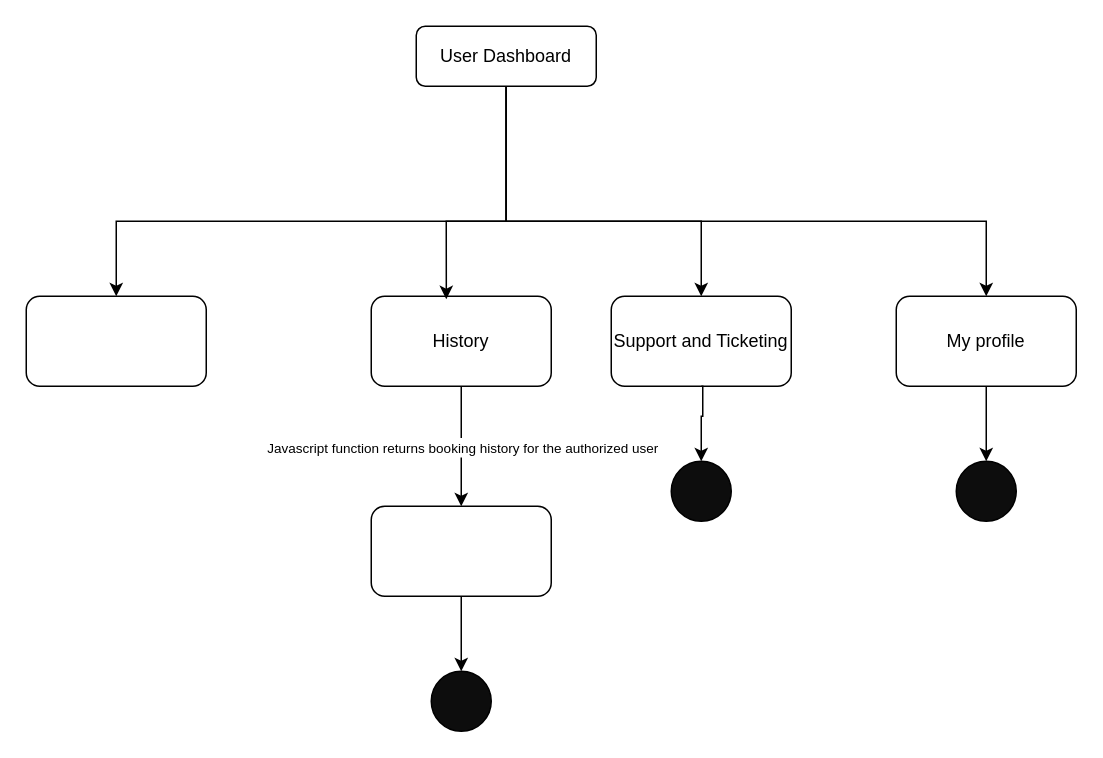
Image size: 1103x758. Some labels were removed from this diagram. The shapes that lost their labels are listed below. From the top down, each one's centre as x and y in pixels, then its label:
the point at 115,340: Booking
the point at 460,550: User would be able to see the all previous bookings
